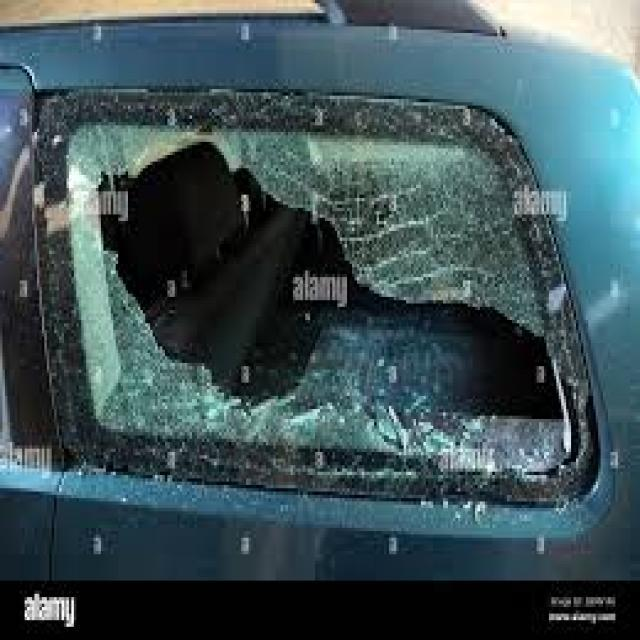damaged-window: (36, 86, 608, 516)
